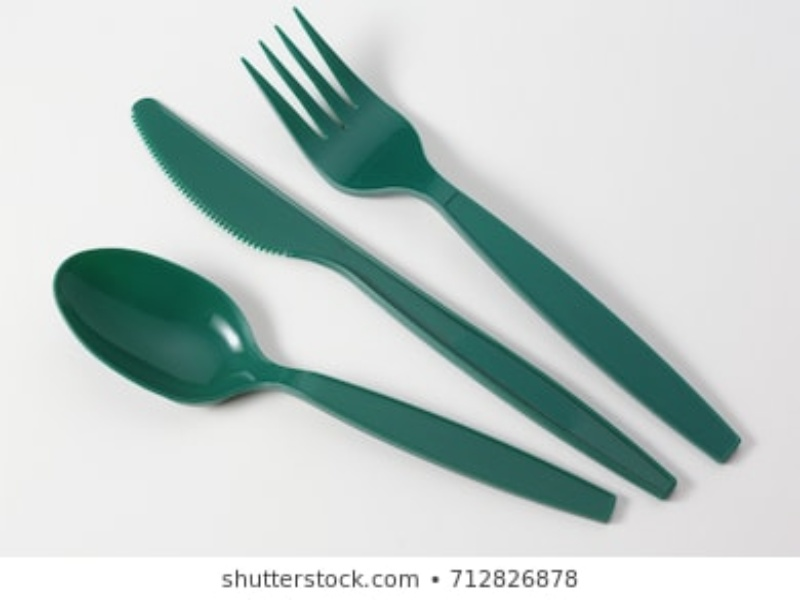plastic-silverware: (246, 7, 768, 466), (121, 91, 682, 498), (48, 246, 622, 526)
